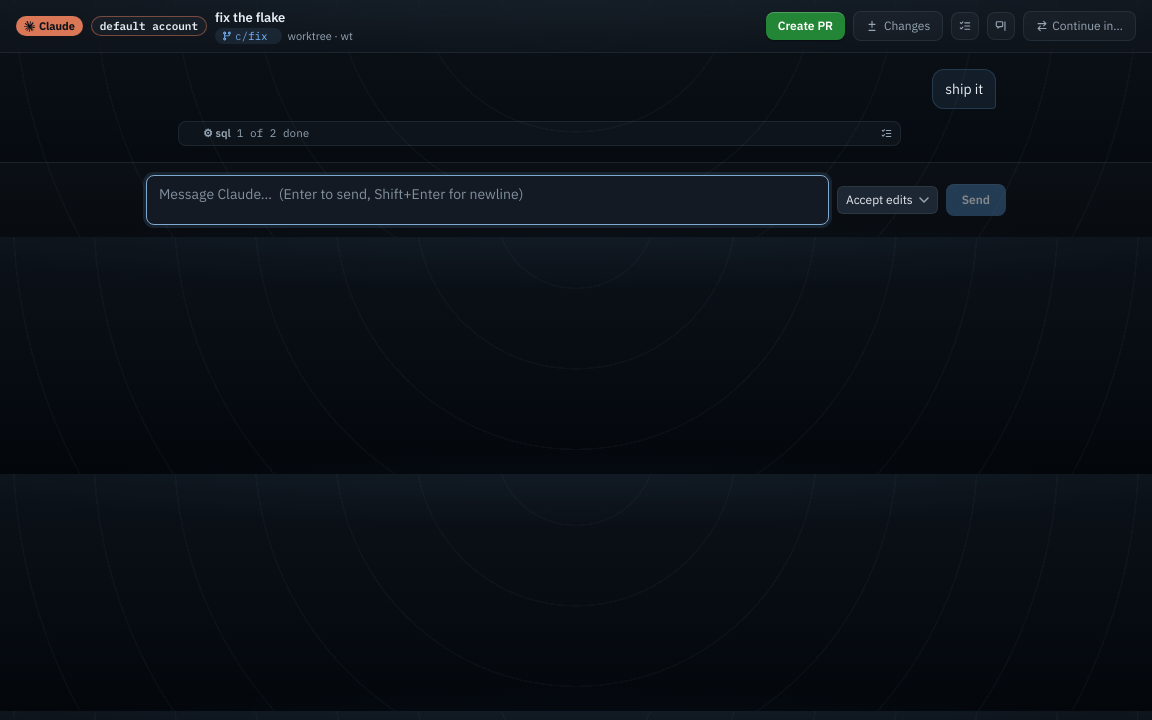
Test: the Work key › names a blocked step as one, and counts it as not done
Step 1. Click the button named "Work" → (965, 26), box [951,12,979,40]
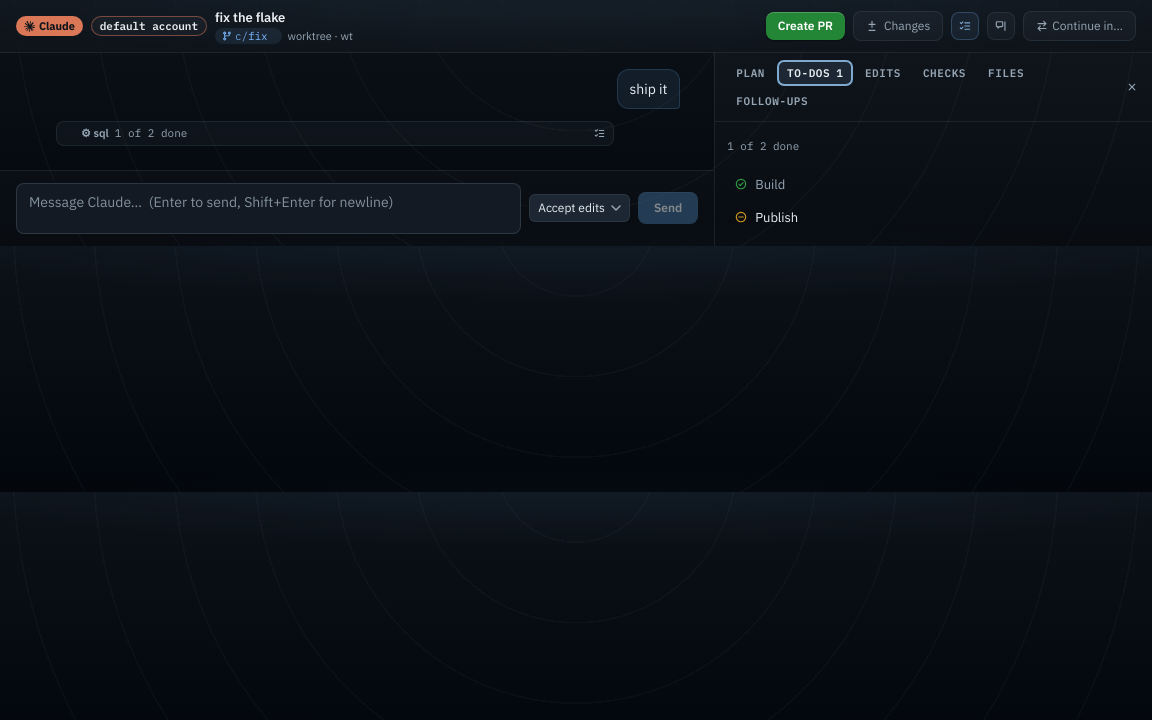
Expected: the 2nd text "1 of 2 done" is shown, [727,138,799,154]
